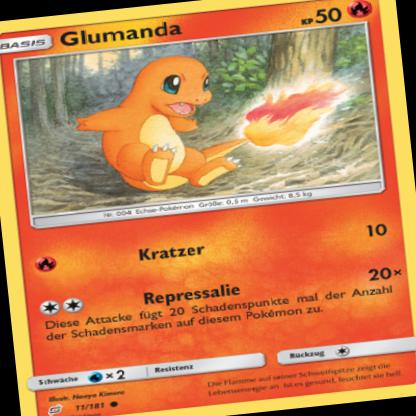Charmander: (72, 48, 262, 200)
